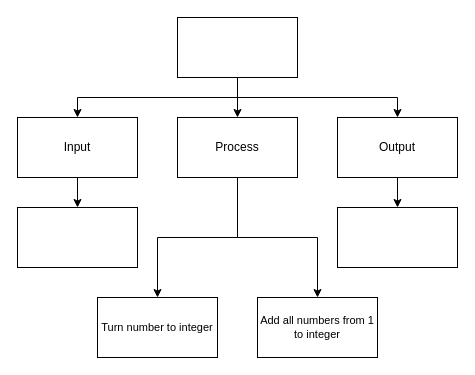
Image size: 475x375. Some labels were removed from this diagram. Each missing label, with the centre of its shape:
"Adding" goes at point (237, 47).
"Get number" goes at point (77, 237).
"Print appropriate answer" goes at point (397, 237).
